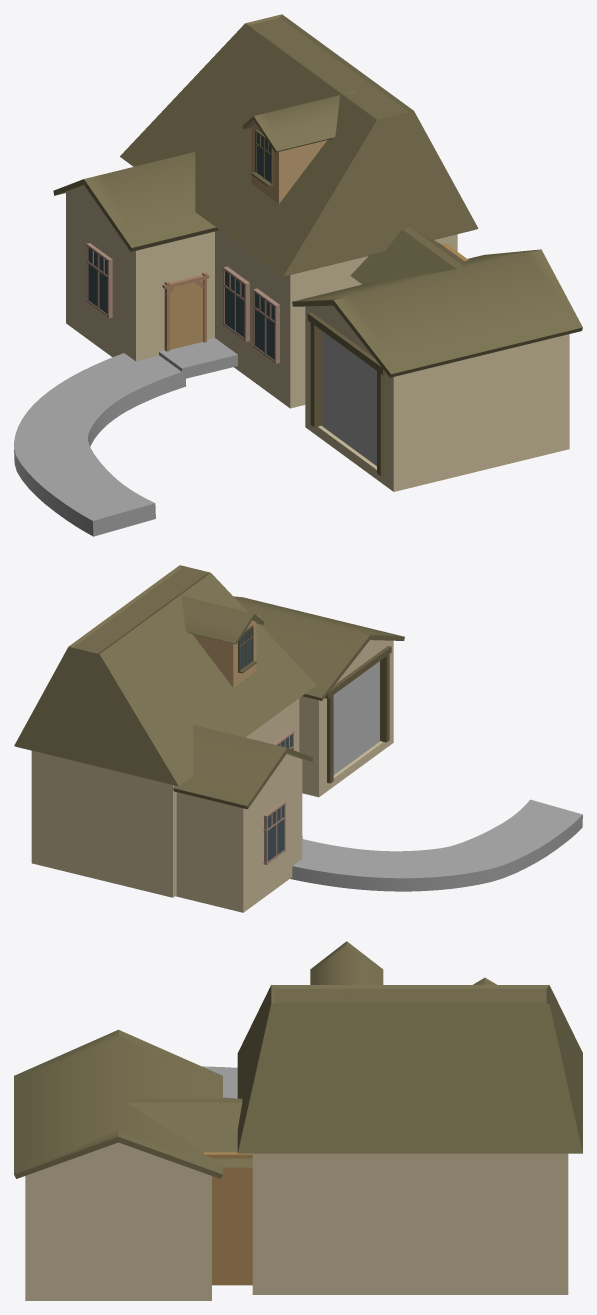
The model's file is house4.fbx.
3 views of the same model, one above another, from view 1: azimuth 30°, elevation 25°; view 2: azimuth 150°, elevation 25°; view 3: azimuth 270°, elevation 25° (orthographic). The views are drawn at different scales.
Visible parts, largest first — view 1: house4; view 2: house4; view 3: house4.
Part boxes in pixels (box(x1,y1,x2,y2)): house4: box(14, 14, 582, 536); house4: box(14, 565, 582, 912); house4: box(14, 941, 582, 1300).
Size of the model in its own units: 1826 by 1034 by 1863.
